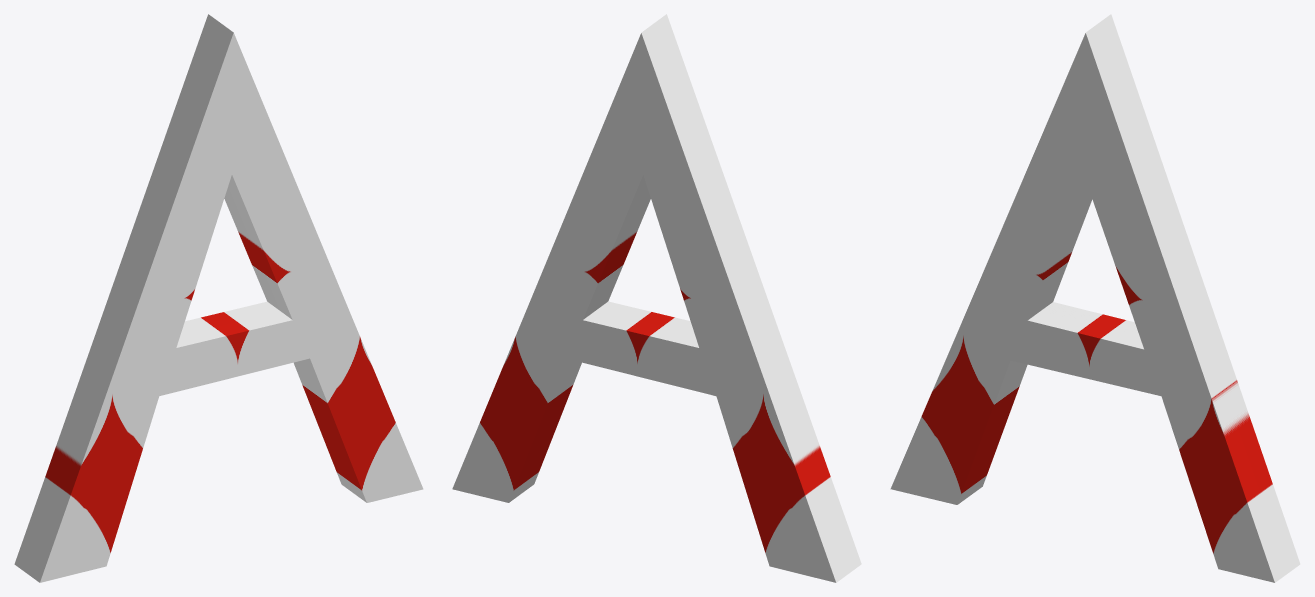
Rendered from As_Carreau.fbx.
3 views of the same model, side by side, from view 1: azimuth 30°, elevation 25°; view 2: azimuth 150°, elevation 25°; view 3: azimuth 330°, elevation 25° (orthographic).
Parts seen in each view (by area): view 1: As de carreau; view 2: As de carreau; view 3: As de carreau.
Boxes of the visible parts, left/top/right/bottom form: As de carreau: left=14, top=14, right=423, bottom=582; As de carreau: left=452, top=14, right=861, bottom=582; As de carreau: left=890, top=14, right=1300, bottom=582.
Size of the model in its own units: 10.02 by 12.54 by 1.17.
